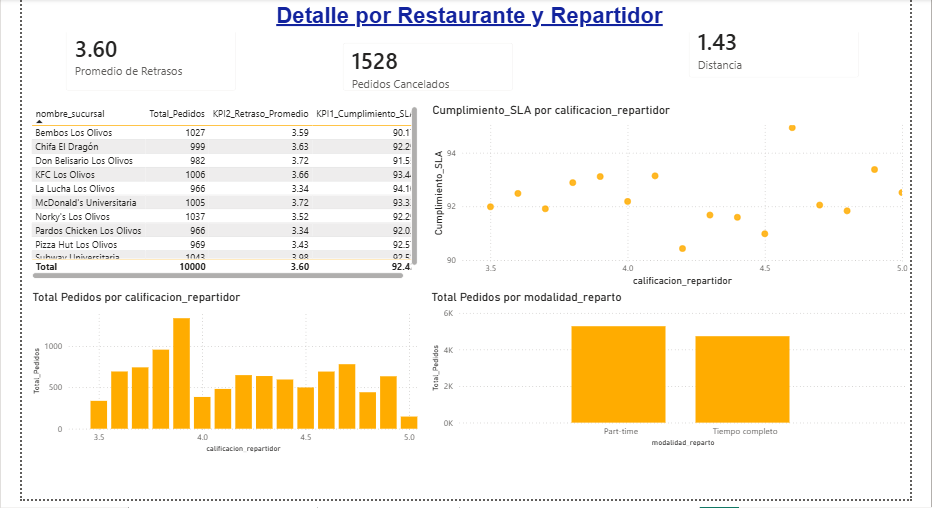

What the dashboard file says about the page in this screenshot:
{"tool":"powerbi","page":{"name":" Detalle por Restaurante y Repartidor","canvas":[1280,720],"ordinal":2},"visuals":[{"type":"cardVisual","fields":{"Data":["datamart_rappi fact_pedidos.KPI2_Retraso_Promedio"]},"box":[46.1,10.1,279.4,139.7],"z":0},{"type":"cardVisual","fields":{"Data":["datamart_rappi fact_pedidos.Pedidos_Cancelados"]},"box":[445,46.1,279.4,103.7],"z":1000},{"type":"cardVisual","fields":{"Data":["datamart_rappi fact_pedidos.KPI3_Distancia_Asignacion"]},"box":[943.2,10.1,279.4,121],"z":2000},{"type":"tableEx","fields":{"Values":["datamart_rappi dim_restaurante.nombre_sucursal","datamart_rappi fact_pedidos.Total_Pedidos","datamart_rappi fact_pedidos.KPI2_Retraso_Promedio","datamart_rappi fact_pedidos.KPI1_Cumplimiento_SLA"]},"box":[8.6,149.8,565.9,257.8],"z":3000},{"type":"columnChart","title":"Total Pedidos por calificacion_repartidor","fields":{"Category":["datamart_rappi dim_repartidor.calificacion_repartidor"],"Y":["datamart_rappi fact_pedidos.Total_Pedidos"]},"box":[10,418.8,565,238.8],"z":4000},{"type":"scatterChart","title":"Cumplimiento_SLA por calificacion_repartidor","fields":{"X":["datamart_rappi dim_repartidor.calificacion_repartidor"],"Y":["datamart_rappi fact_pedidos.KPI1_Cumplimiento_SLA"]},"box":[586.1,149.8,694.1,269.3],"z":5000},{"type":"columnChart","title":"Total Pedidos por modalidad_reparto","fields":{"Category":["datamart_rappi dim_repartidor.modalidad_reparto"],"Y":["datamart_rappi fact_pedidos.Total_Pedidos"]},"box":[585,418.8,693.8,230],"z":6000},{"type":"textbox","box":[10.1,0,1268.6,47.5],"z":7000}]}

Visuals, with their boxes on the page's 1280x720 design canvas (x1, y1, x2, y2). These are canvas units, not pixel positions in the 932x508 screenshot, which may show the page scaled, cropped or inside an application window:
cardVisual - datamart_rappi fact_pedidos.KPI2_Retraso_Promedio: region(46, 10, 326, 150)
cardVisual - datamart_rappi fact_pedidos.Pedidos_Cancelados: region(445, 46, 724, 150)
cardVisual - datamart_rappi fact_pedidos.KPI3_Distancia_Asignacion: region(943, 10, 1223, 131)
tableEx - datamart_rappi dim_restaurante.nombre_sucursal x datamart_rappi fact_pedidos.Total_Pedidos: region(9, 150, 574, 408)
"Total Pedidos por calificacion_repartidor" columnChart: region(10, 419, 575, 658)
"Cumplimiento_SLA por calificacion_repartidor" scatterChart: region(586, 150, 1280, 419)
"Total Pedidos por modalidad_reparto" columnChart: region(585, 419, 1279, 649)
textbox: region(10, 0, 1279, 48)
